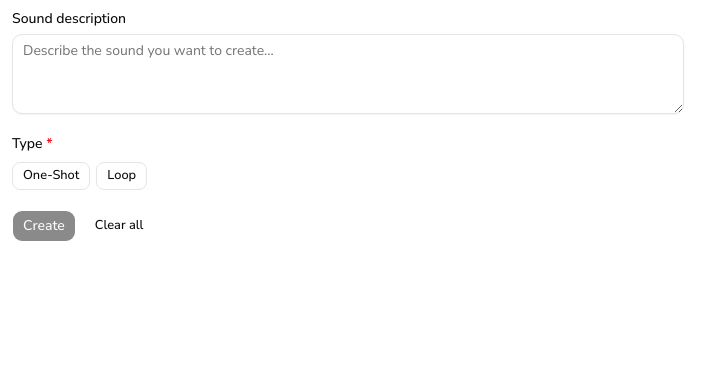
Test: SoundsCreationForm › sends loop tempo and key with the request
The width and height of the screenshot is (704, 370).
Type "a driving bass loop" into the text box labelled "Sound description" at (348,74), box [12, 34, 684, 114]
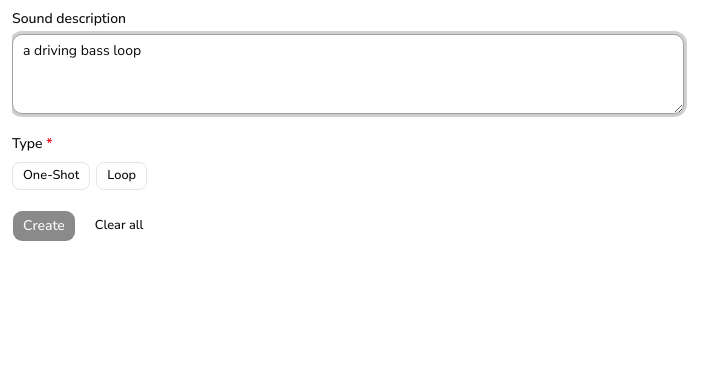
Click the button "Loop" at (122,176), box [96, 162, 147, 190]
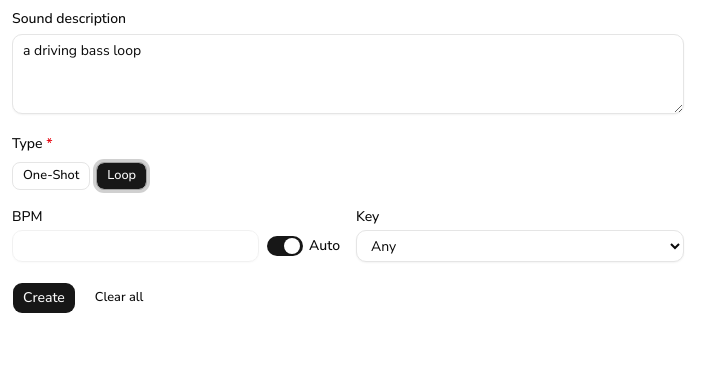
Click the switch named "Auto" at (285,246), box [267, 236, 303, 256]
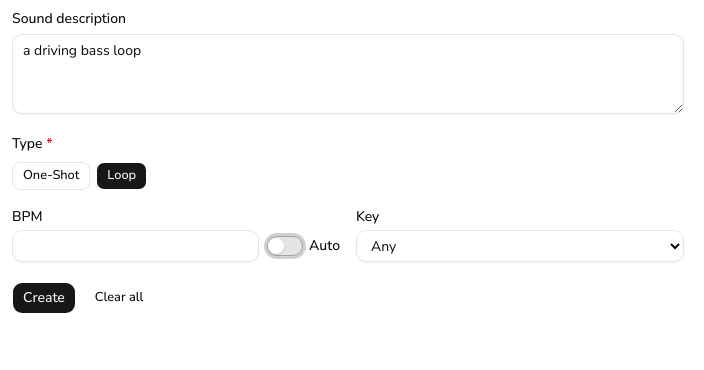
Type "128" into the number field labelled "BPM" at (136,246), box [12, 230, 259, 262]
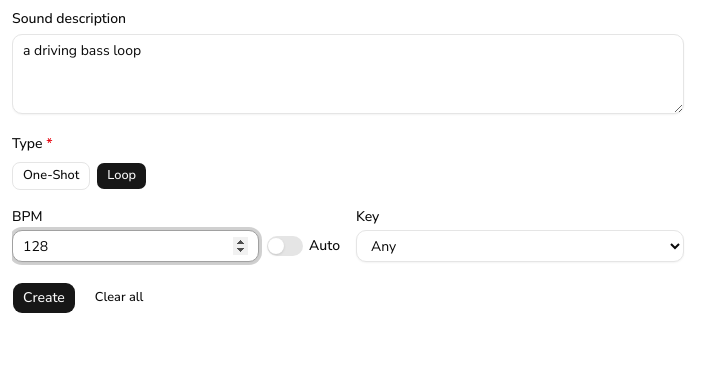
Select "A minor" in the dropdown labelled "Key" at (520,246), box [356, 230, 684, 262]
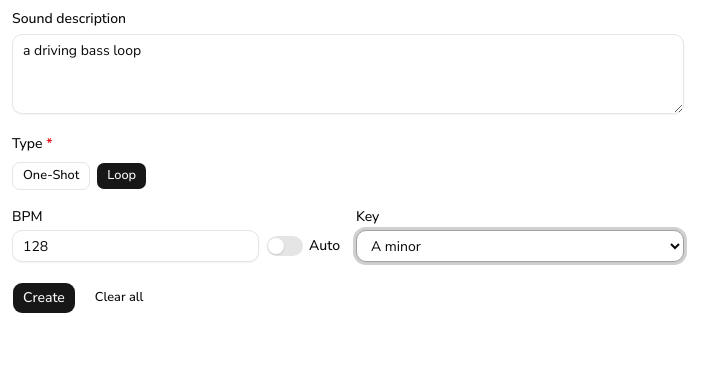
Click the button "Create" at (44,298), box [12, 282, 76, 314]
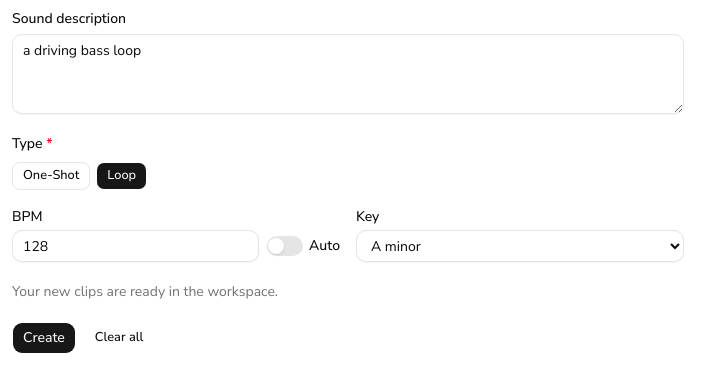
Result: the text "Your new clips are ready in the workspace." is shown at [12, 282, 278, 301]
